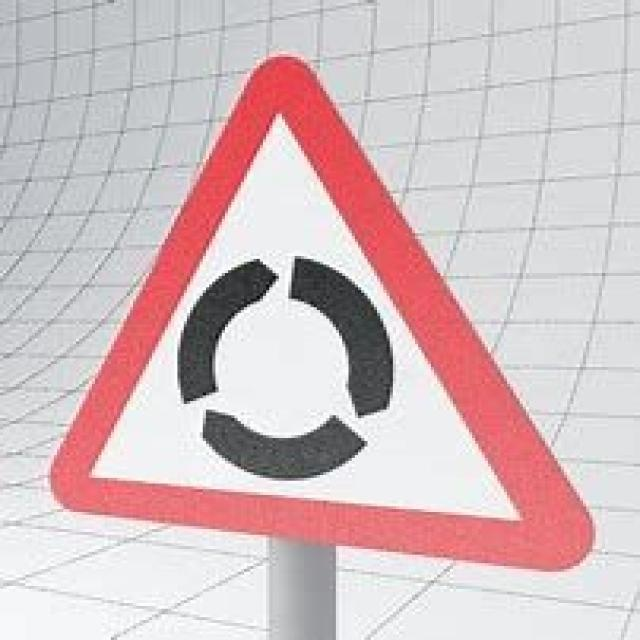roundabout: (46, 49, 593, 578)
